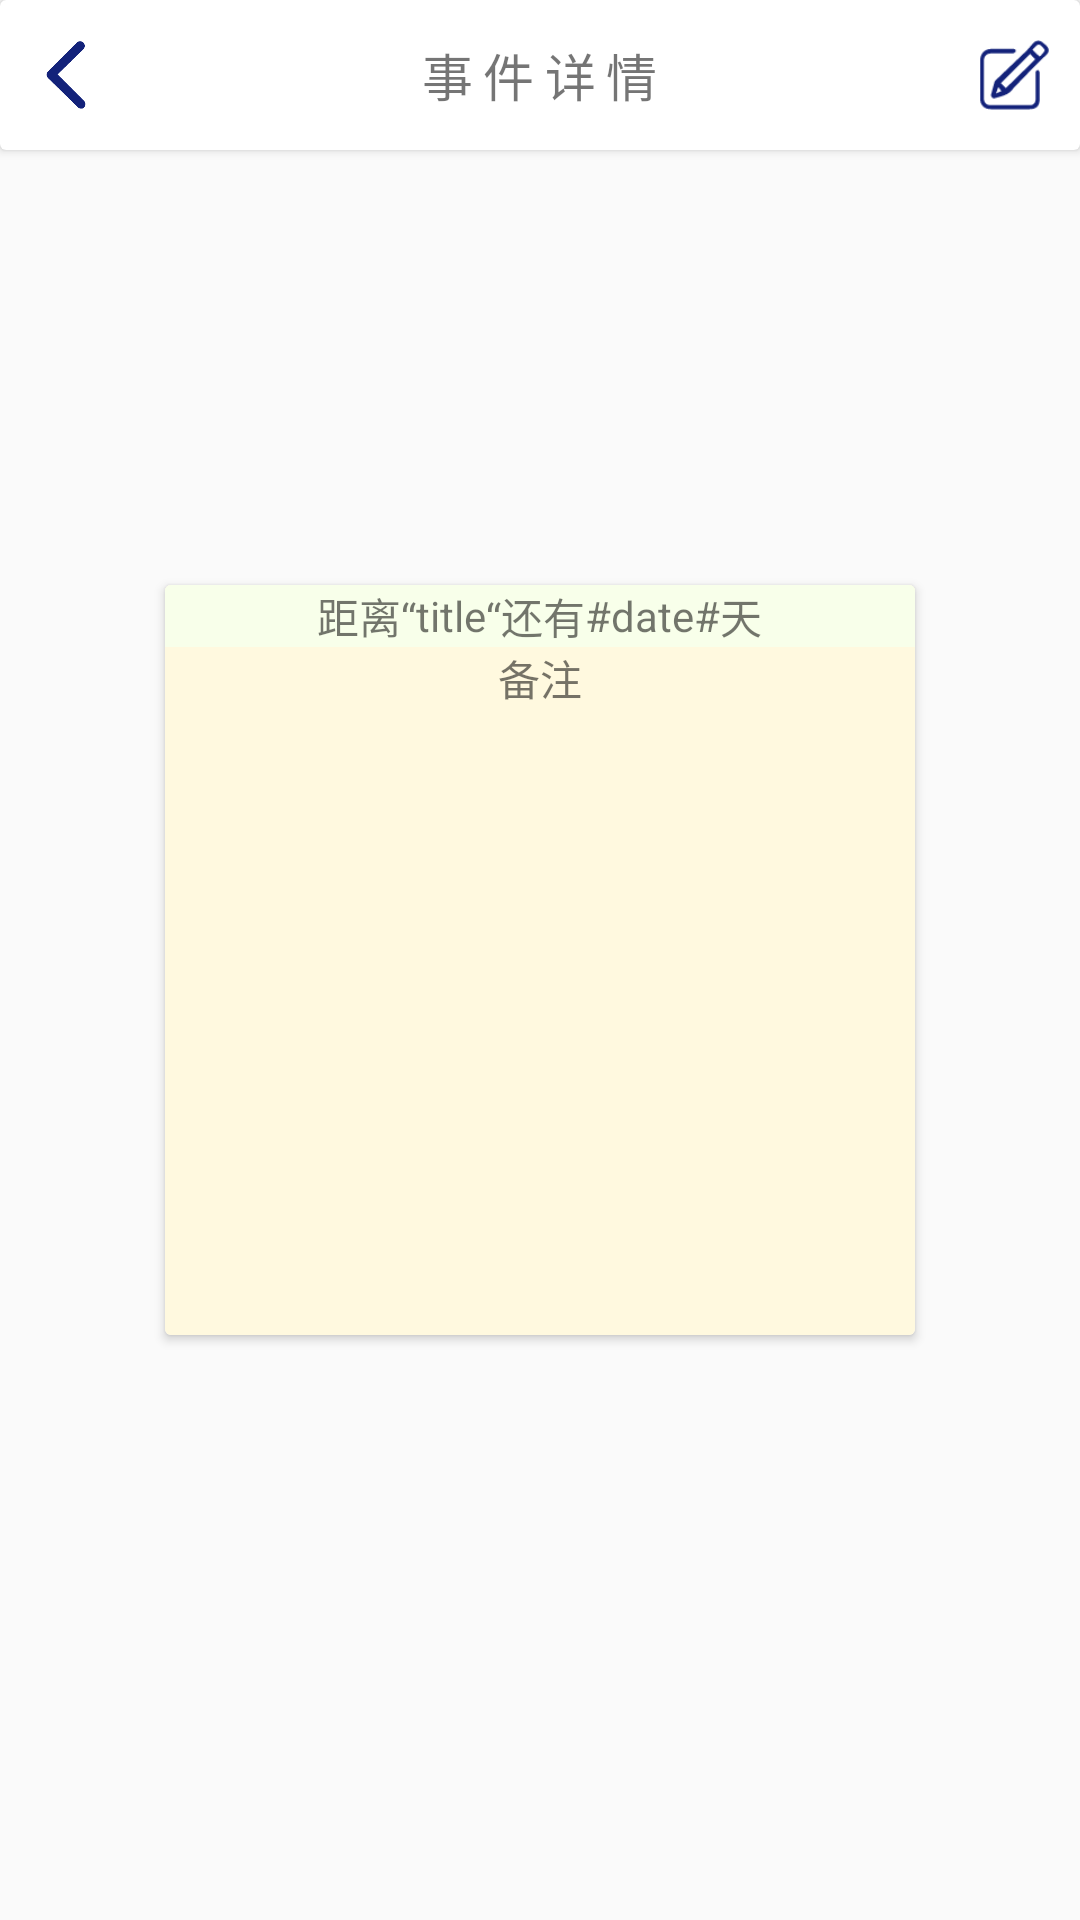

Named icons in this screenshot (1080 x 1920) and their centers, (x=x, y=y):
back: (x=66, y=75)
